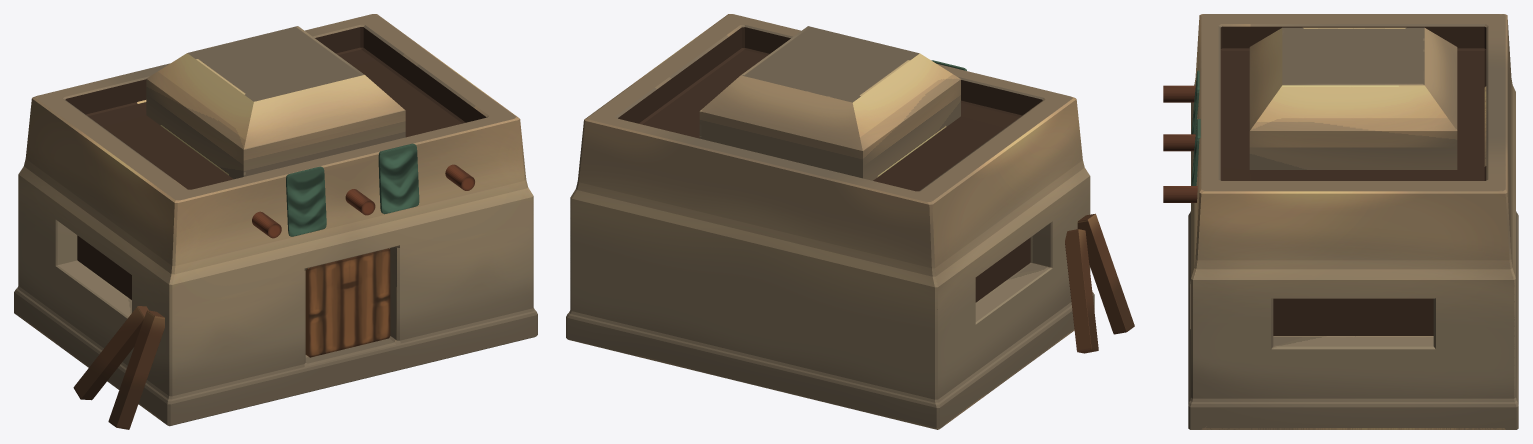
The model's file is CasaPraca3.fbx.
3 renders of one model, left to right at view 1: azimuth 30°, elevation 25°; view 2: azimuth 150°, elevation 25°; view 3: azimuth 270°, elevation 25°, orthographic. The views are drawn at different scales.
Visible parts, largest first — view 1: Cube.012, Cube.016, Cube.031, Plane.001, Cylinder.006, Cylinder.005, Cylinder.007; view 2: Cube.012, Cube.031; view 3: Cube.012, Plane.001, Cylinder.007, Cylinder.005, Cylinder.006.
Boxes of the visible parts, x1,y1,x2,y2 form: Cube.012: [14, 14, 537, 426]; Cube.016: [305, 248, 390, 357]; Cube.031: [73, 306, 164, 429]; Plane.001: [286, 143, 419, 236]; Cylinder.006: [345, 189, 375, 215]; Cylinder.005: [252, 211, 281, 238]; Cylinder.007: [445, 164, 474, 190]; Cube.012: [566, 14, 1094, 429]; Cube.031: [1065, 213, 1134, 353]; Cube.012: [1188, 14, 1518, 429]; Plane.001: [1191, 70, 1200, 185]; Cylinder.007: [1163, 186, 1197, 202]; Cylinder.005: [1163, 85, 1195, 102]; Cylinder.006: [1163, 134, 1195, 151].
Size of the model in its own units: 1001 by 601 by 696.
6 materials, 5 textured.
